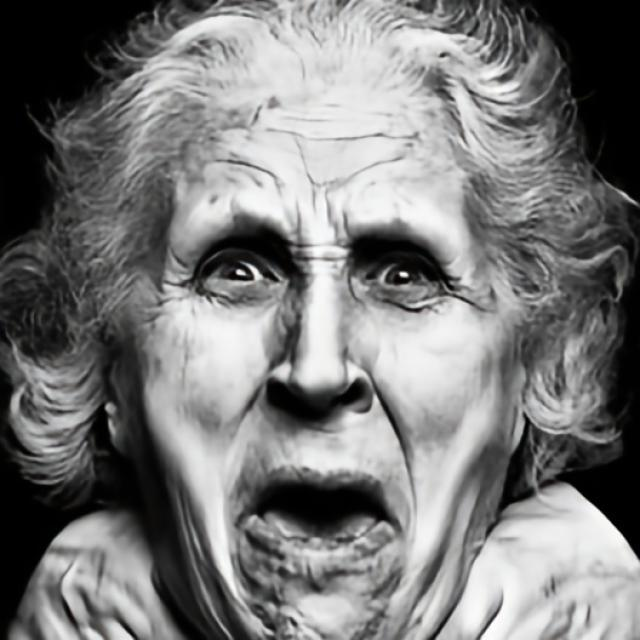fear: (138, 81, 516, 640)
